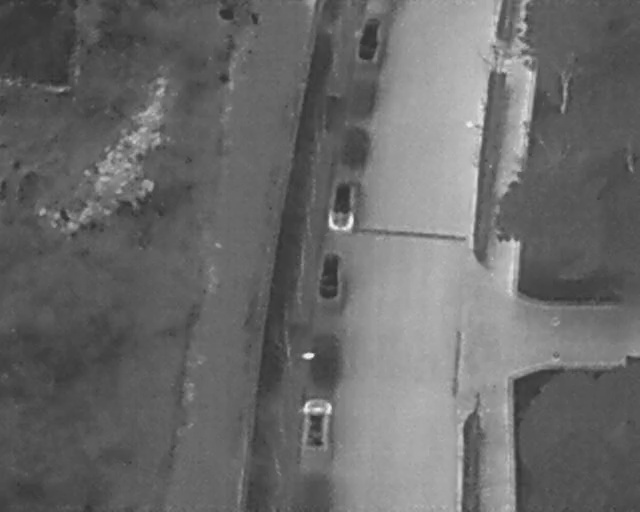Car: (298, 396, 332, 452), (327, 178, 358, 232), (354, 15, 383, 63), (316, 250, 343, 301)
